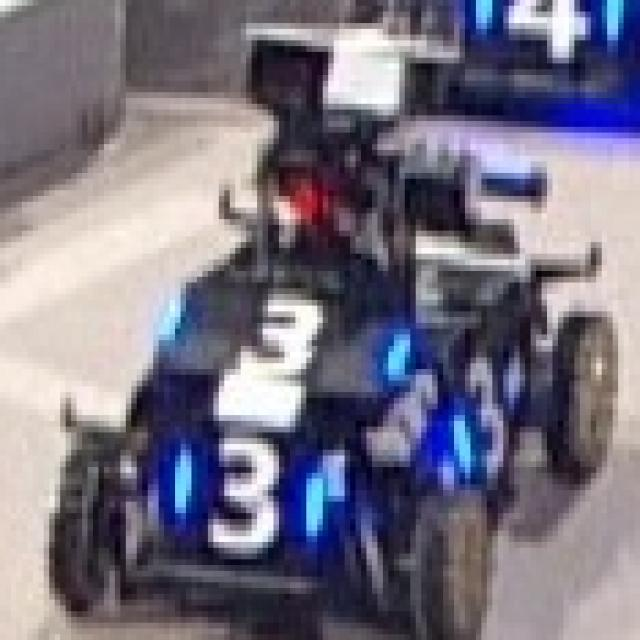B3: (148, 277, 432, 392), (170, 432, 317, 560), (448, 352, 520, 484)
